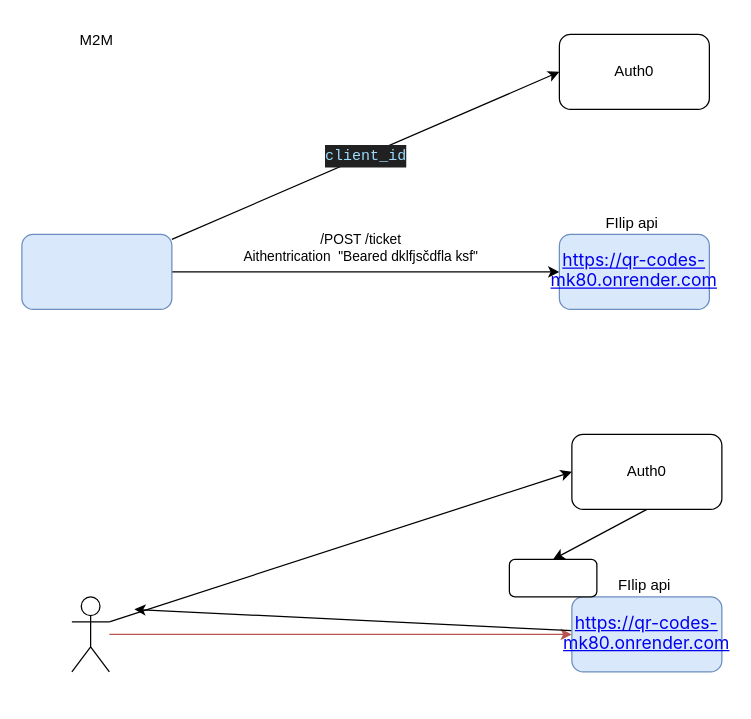
Image size: 751x719. Some labels were removed from this diagram. Here are the shapes that lost their labels. From the top down, the box of each, then its label:
(21, 233, 172, 309): client izdaje tickete
(71, 596, 109, 672): Actor
